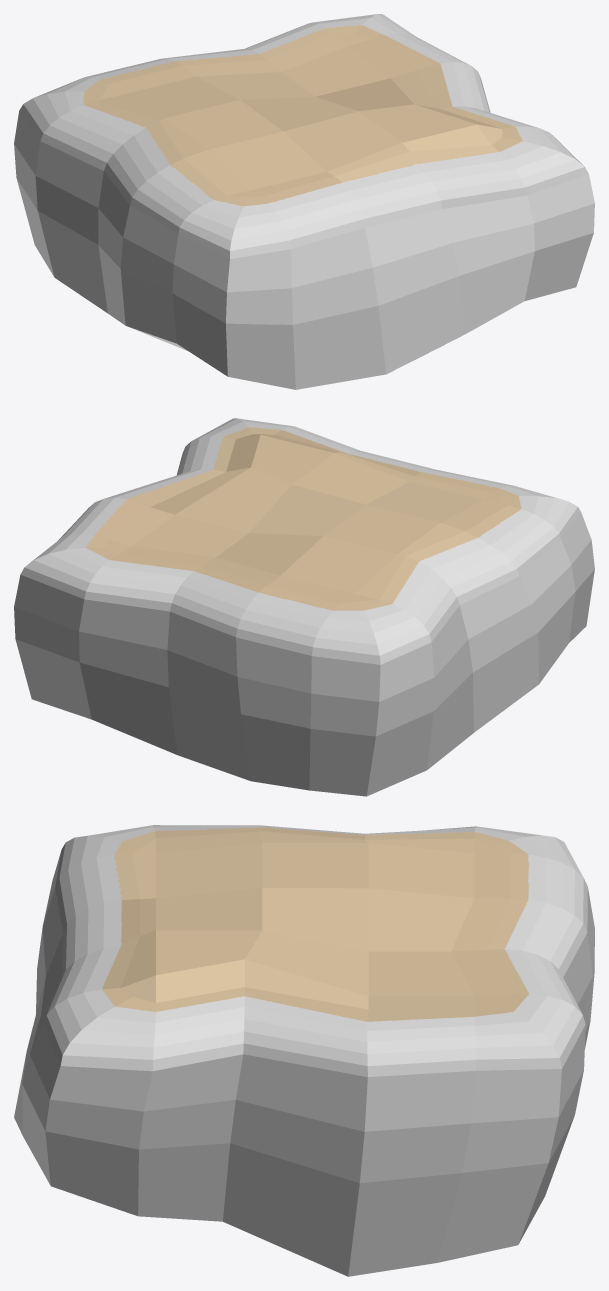
File: block_txt.gltf
3 renders of one model, top to bottom at view 1: azimuth 30°, elevation 25°; view 2: azimuth 150°, elevation 25°; view 3: azimuth 270°, elevation 25°, orthographic. The views are drawn at different scales.
Visible parts, largest first — view 1: 6-5; view 2: 6-5; view 3: 6-5.
Boxes of the visible parts, box(x1,y1,x2,y2) form: 6-5: box(14, 14, 594, 389); 6-5: box(14, 418, 594, 796); 6-5: box(14, 825, 594, 1276).
Bounding box in the file's own units: 9.92 × 5.21 × 9.84.
1 material, 1 textured.
